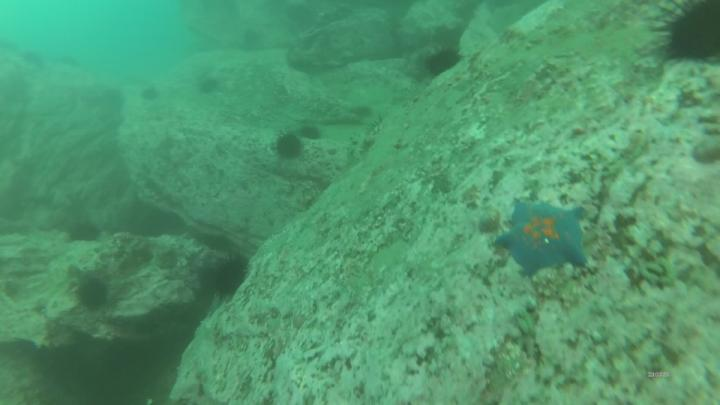echinus: (670, 2, 720, 61), (209, 263, 243, 292), (79, 284, 108, 311), (426, 51, 458, 75), (276, 133, 300, 159), (71, 225, 100, 244), (302, 125, 320, 139), (201, 78, 216, 93), (241, 30, 257, 43), (142, 89, 156, 102)
starfish: (496, 197, 591, 274)
